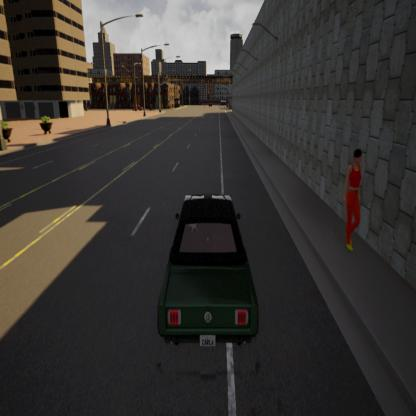Cars: (147, 175, 265, 363)
Pedestrian: (334, 136, 373, 263)
